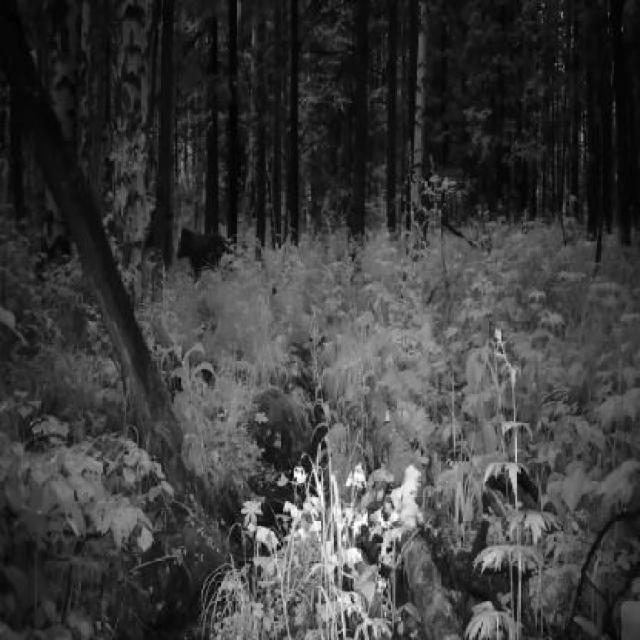Bear: (170, 186, 239, 286)
